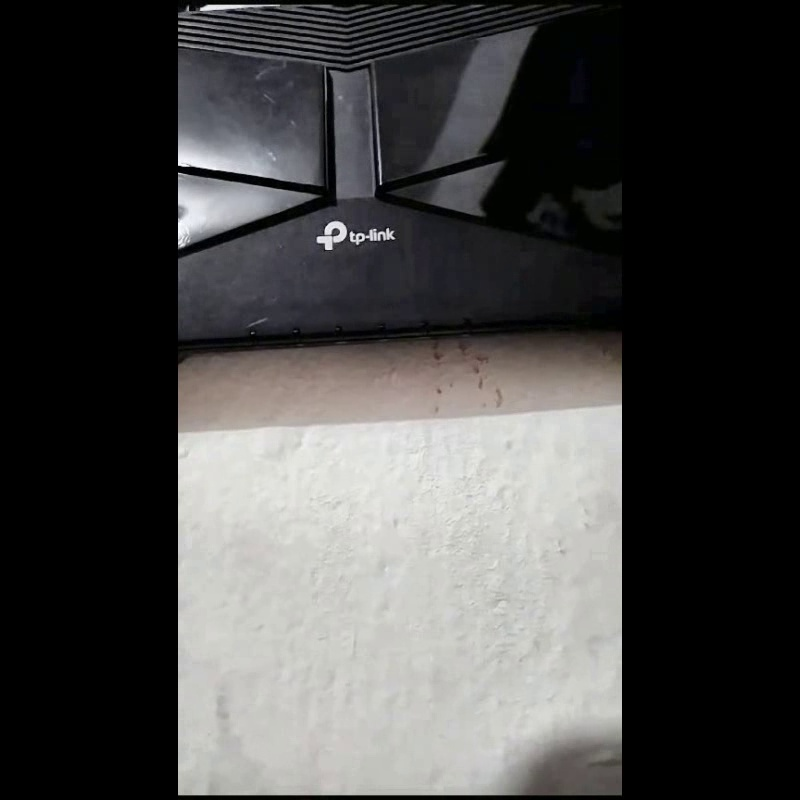off: (461, 316, 471, 334), (418, 318, 428, 336), (248, 329, 258, 346), (290, 326, 300, 342), (333, 322, 342, 339), (377, 322, 386, 338)
